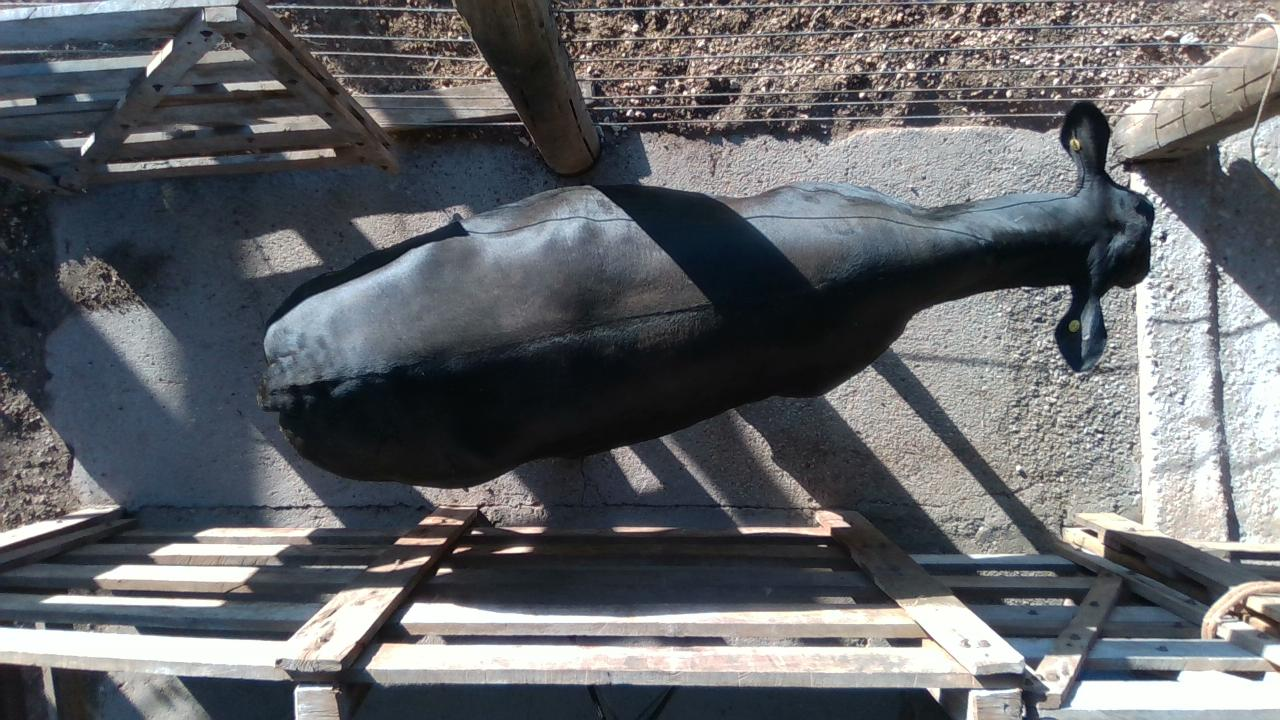cattle: (257, 99, 1155, 488)
